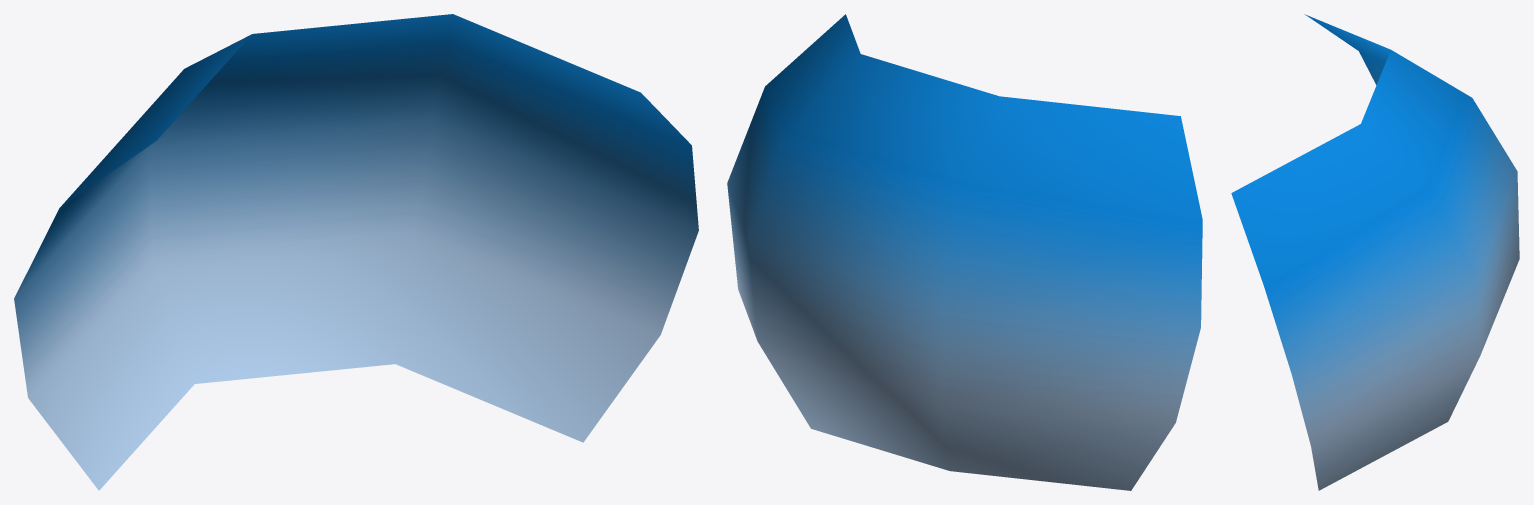
File: Uni_Sky.fbx
The picture shows the model from 3 angles, left to right: view 1: azimuth 30°, elevation 25°; view 2: azimuth 150°, elevation 25°; view 3: azimuth 270°, elevation 25°; orthographic projection. The views are drawn at different scales.
Visible parts, largest first — view 1: Uni_Level_Sky; view 2: Uni_Level_Sky; view 3: Uni_Level_Sky.
Boxes of the visible parts, x1,y1,x2,y2 form: Uni_Level_Sky: (14, 14, 698, 490); Uni_Level_Sky: (727, 14, 1202, 490); Uni_Level_Sky: (1231, 14, 1519, 490).
Bounding box in the file's own units: 5825 × 3997 × 3106.
1 material, 1 textured.
